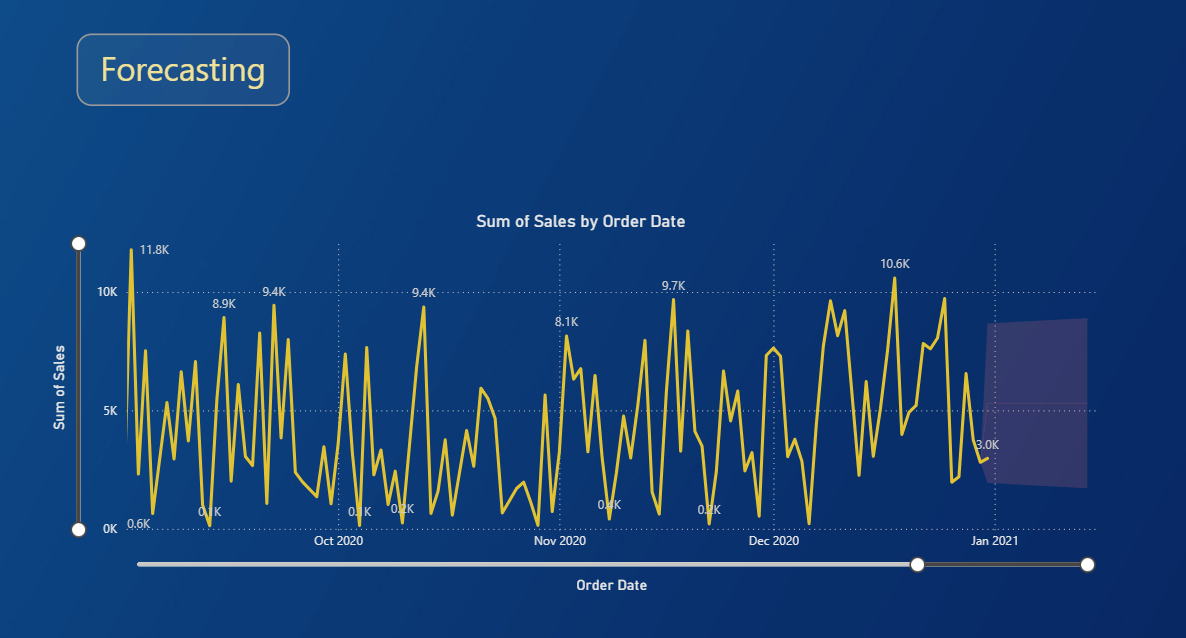

The dashboard page shown, as its layout file describes it:
{"tool":"powerbi","page":{"name":"Forecasting","canvas":[1280,720],"ordinal":1},"visuals":[{"type":"lineChart","fields":{"Y":["Sum(SuperStore_Sales_Dataset.Sales)"],"Category":["SuperStore_Sales_Dataset.Order Date"]},"box":[89.6,220.9,1051.5,379.1],"z":0},{"type":"textbox","box":[120.2,46.6,209.8,71.2],"z":1}]}

Visuals, with their boxes on the page's 1280x720 design canvas (x1, y1, x2, y2). These are canvas units, not pixel positions in the 1186x638 screenshot, which may show the page scaled, cropped or inside an application window:
lineChart - Sum(SuperStore_Sales_Dataset.Sales) x SuperStore_Sales_Dataset.Order Date: box(90, 221, 1141, 600)
textbox: box(120, 47, 330, 118)
